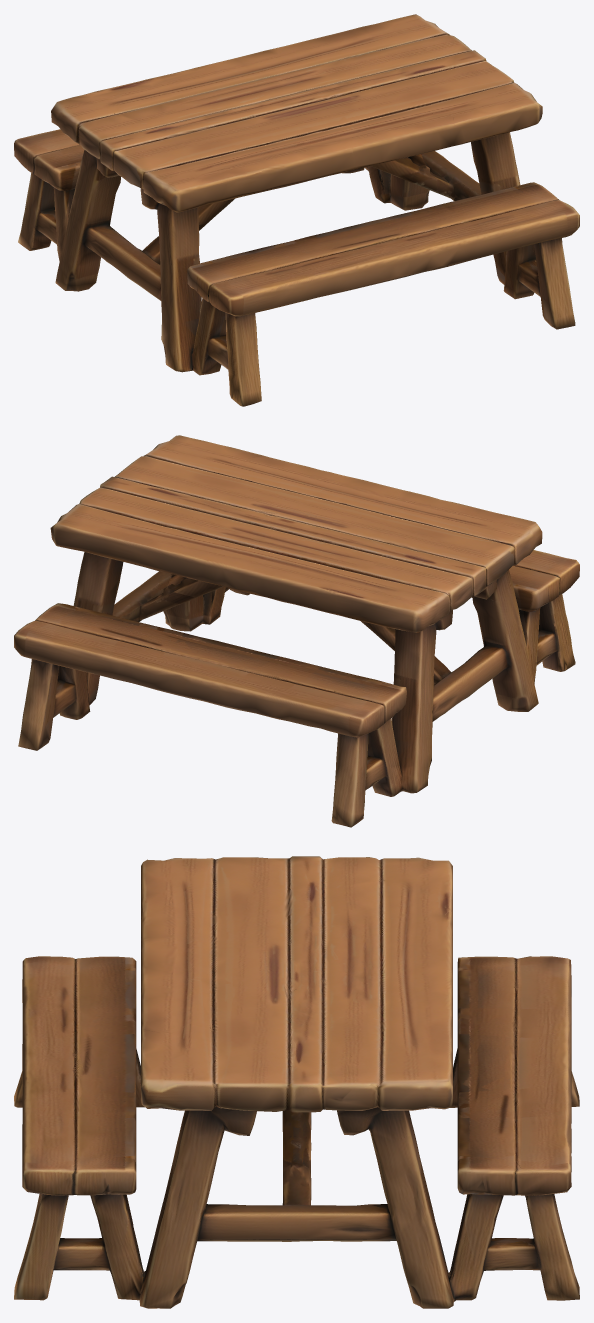
File: rustic-table.glb
3 views of the same model, one above another, from view 1: azimuth 30°, elevation 25°; view 2: azimuth 150°, elevation 25°; view 3: azimuth 270°, elevation 25° (orthographic). The views are drawn at different scales.
Bounding box in the file's own units: 1.84 × 0.8526 × 1.92.
Materials: 1 (1 with a texture image).
